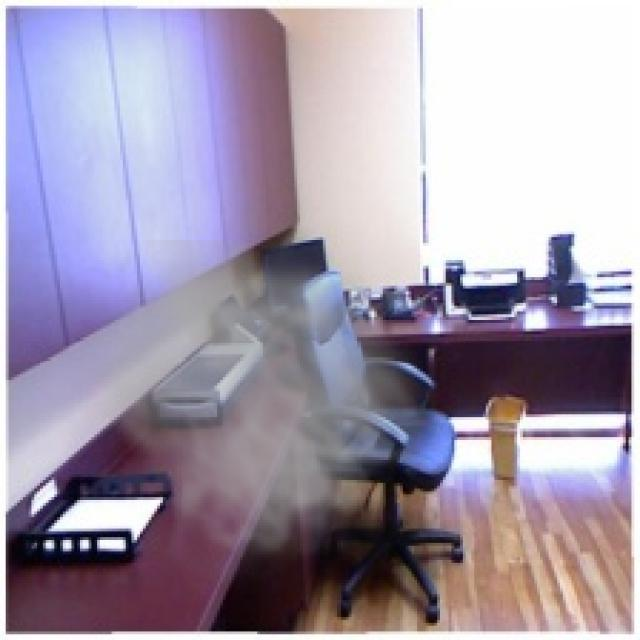Smoke: (77, 240, 443, 594)
